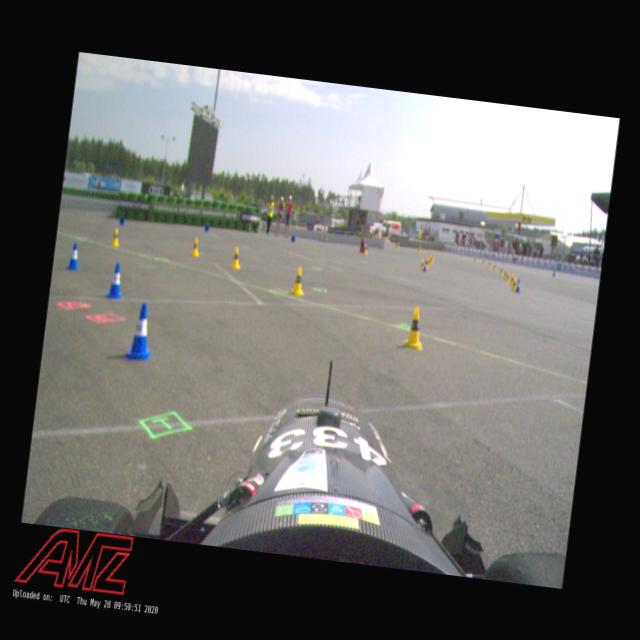blue_cone: (123, 300, 157, 362), (104, 260, 126, 300), (64, 240, 82, 271), (514, 278, 522, 294), (422, 259, 428, 272)
yellow_cone: (402, 304, 427, 350), (289, 264, 307, 296), (228, 246, 242, 270), (189, 235, 201, 257), (110, 226, 120, 248), (511, 276, 518, 292), (509, 273, 515, 286), (504, 270, 510, 282), (419, 258, 425, 270), (498, 265, 504, 275), (502, 268, 507, 279), (492, 262, 497, 271)
